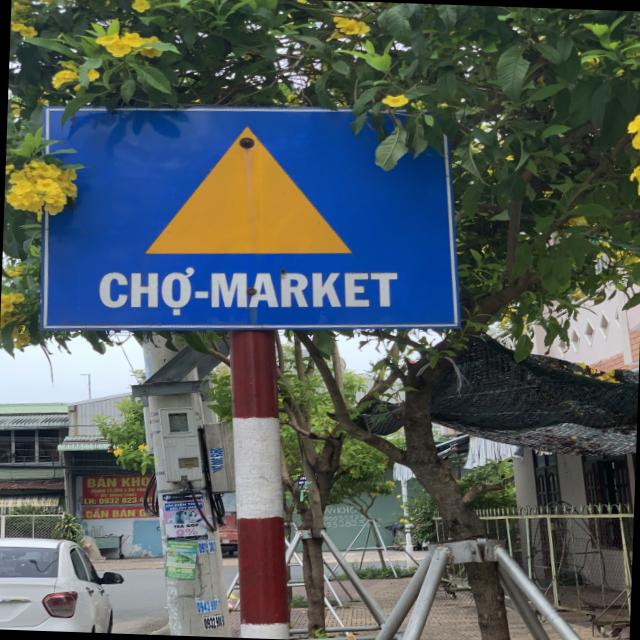Cho_Quay_Xe: (39, 100, 465, 340)
